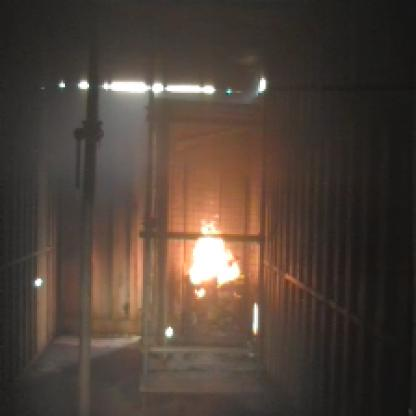Fire: (188, 206, 238, 295)
